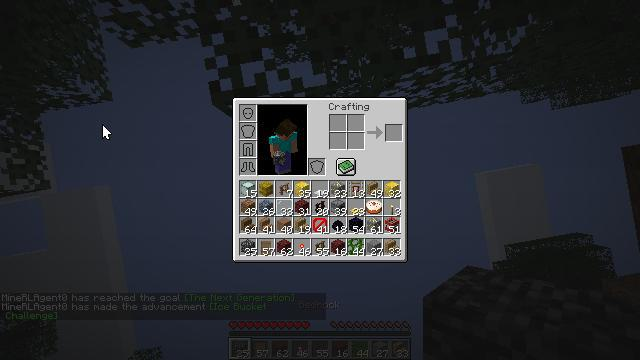cursor: (124, 102, 140, 112)
